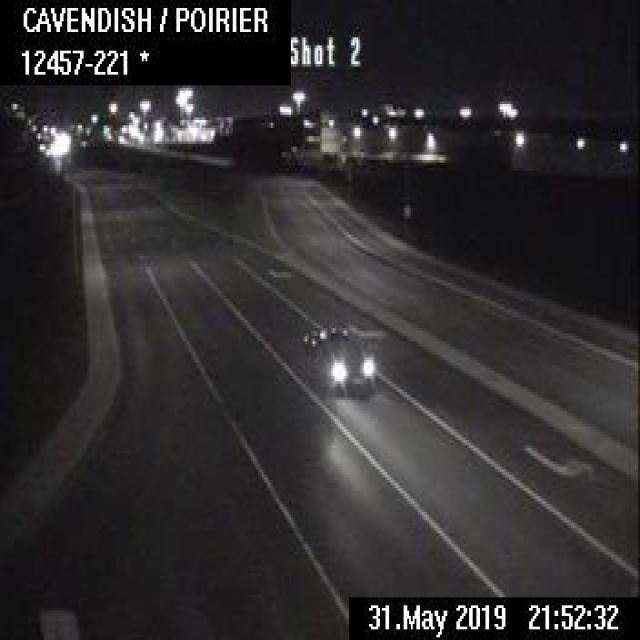vehicle: (300, 323, 375, 390)
